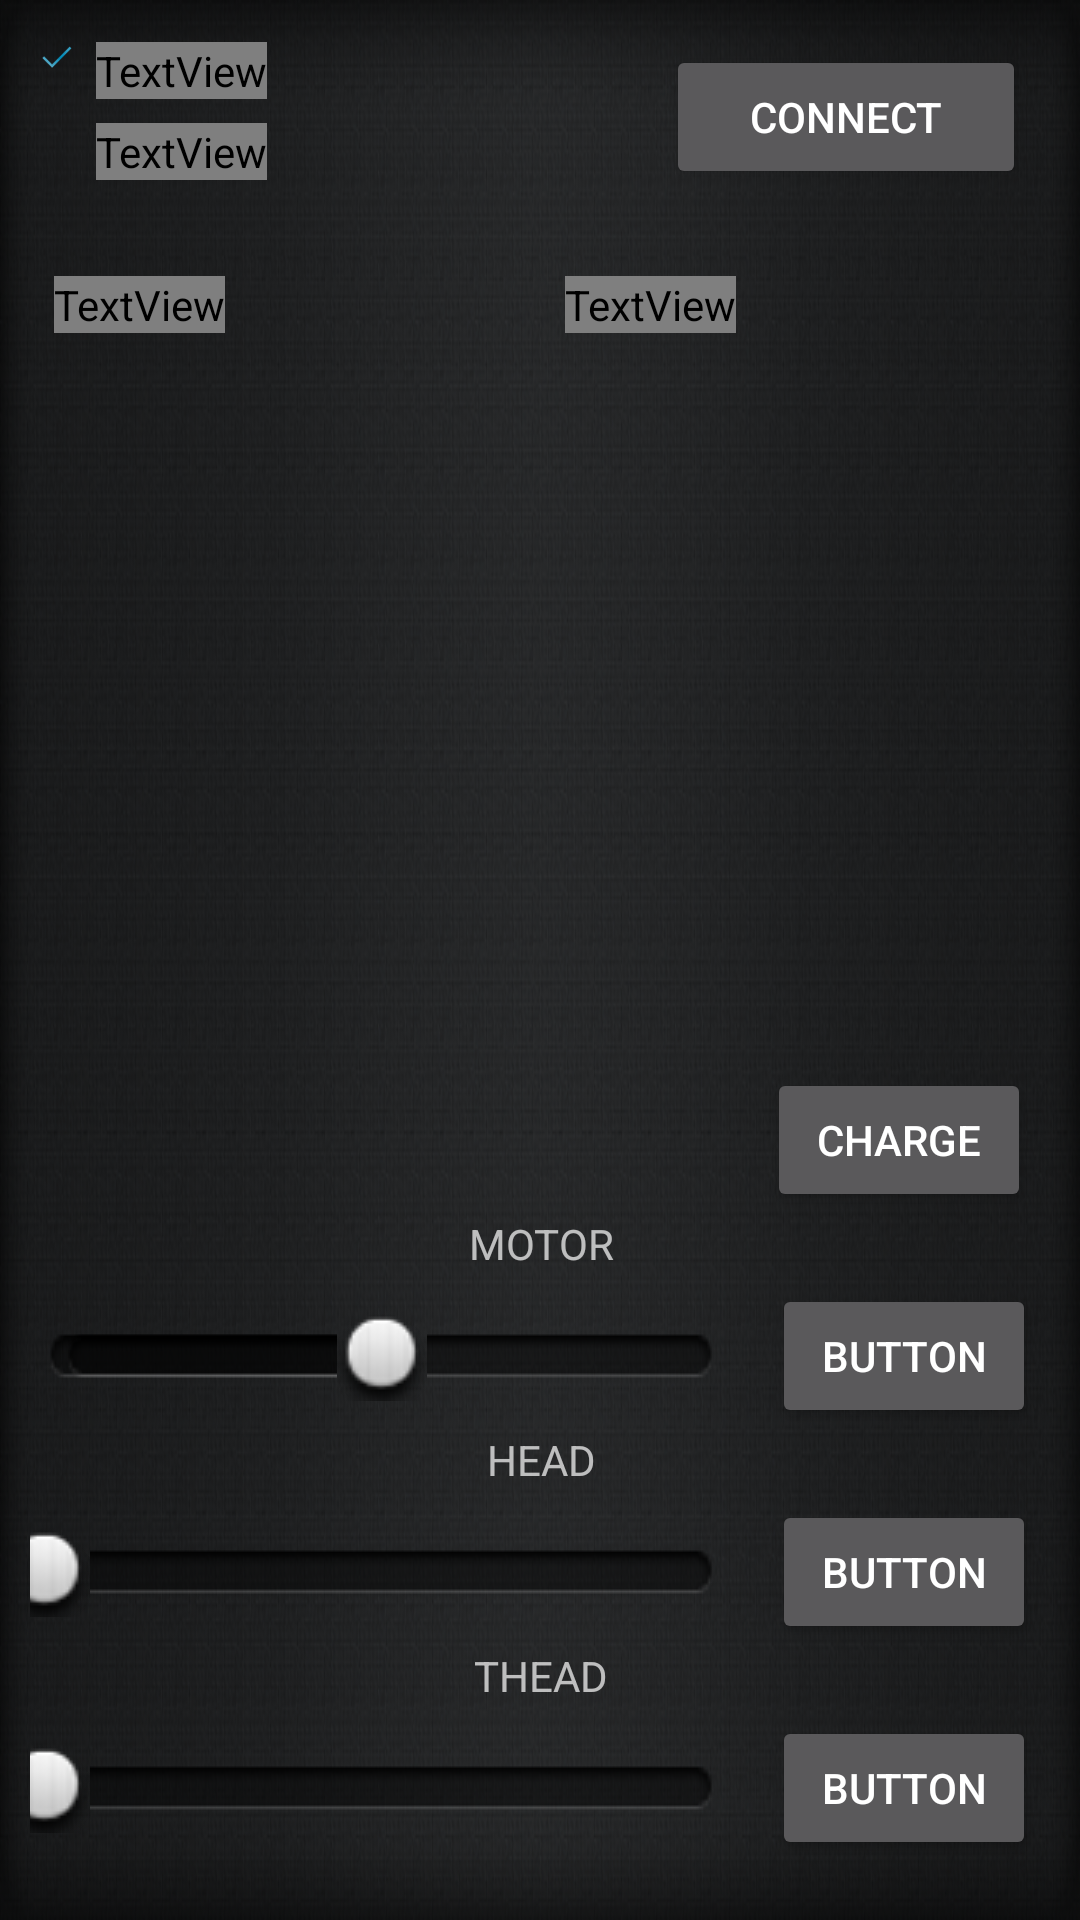

Point at icon controls on the screen. Image size 1080px x 1920px, points as point (x, y).
result ok: point (57, 57)
